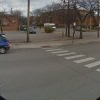crosswalk: (42, 47, 100, 70)
